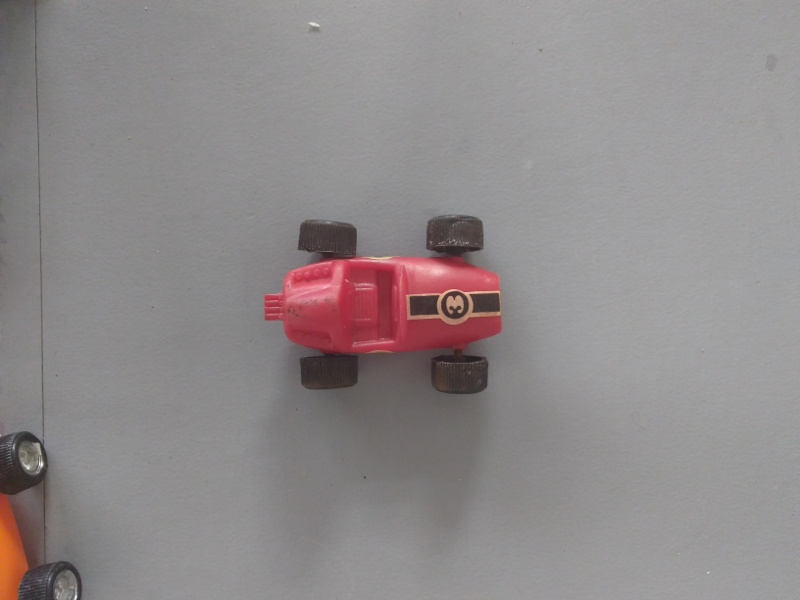rojo: (260, 218, 507, 393)
